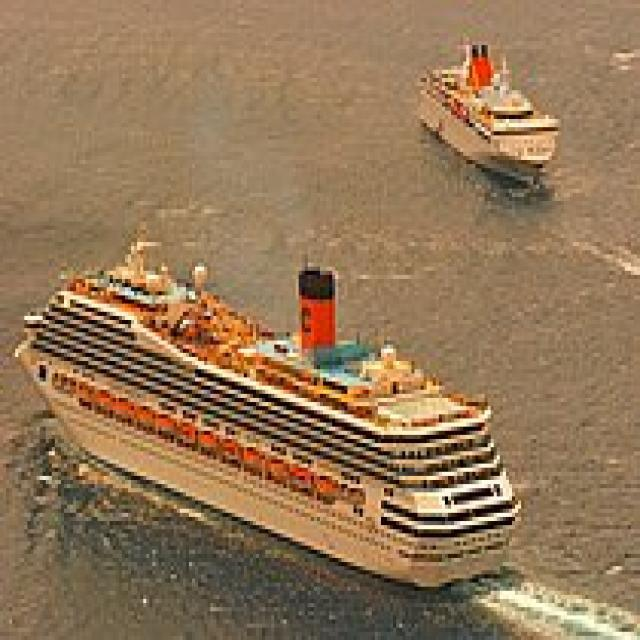Ship: (13, 227, 531, 596), (412, 22, 568, 207)
